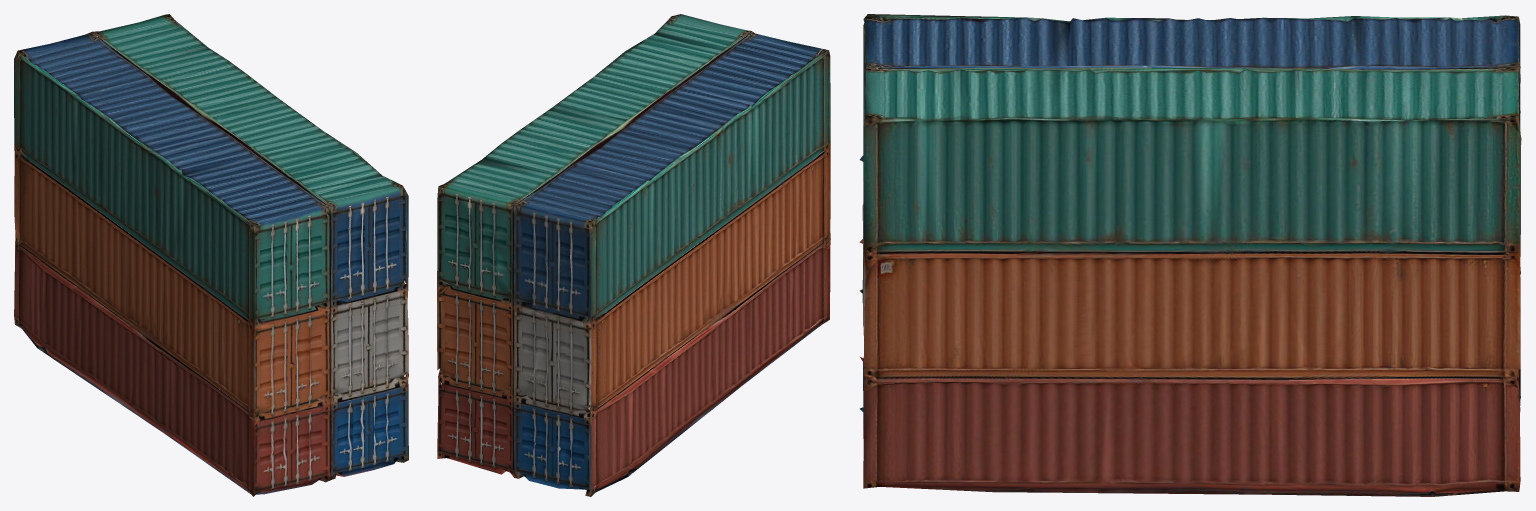
Rendered from teluk-container-stack.glb.
3 renders of one model, left to right at view 1: azimuth 30°, elevation 25°; view 2: azimuth 150°, elevation 25°; view 3: azimuth 270°, elevation 25°, orthographic. The views are drawn at different scales.
Visible parts, largest first — view 1: teluk-container-stack; view 2: teluk-container-stack; view 3: teluk-container-stack.
Boxes of the visible parts, <box> form: teluk-container-stack: <box>14,14,408,496</box>; teluk-container-stack: <box>437,14,830,496</box>; teluk-container-stack: <box>859,14,1521,496</box>.
Bounding box in the file's own units: 4.9 × 7.63 × 12.2.
1 material, 1 textured.
